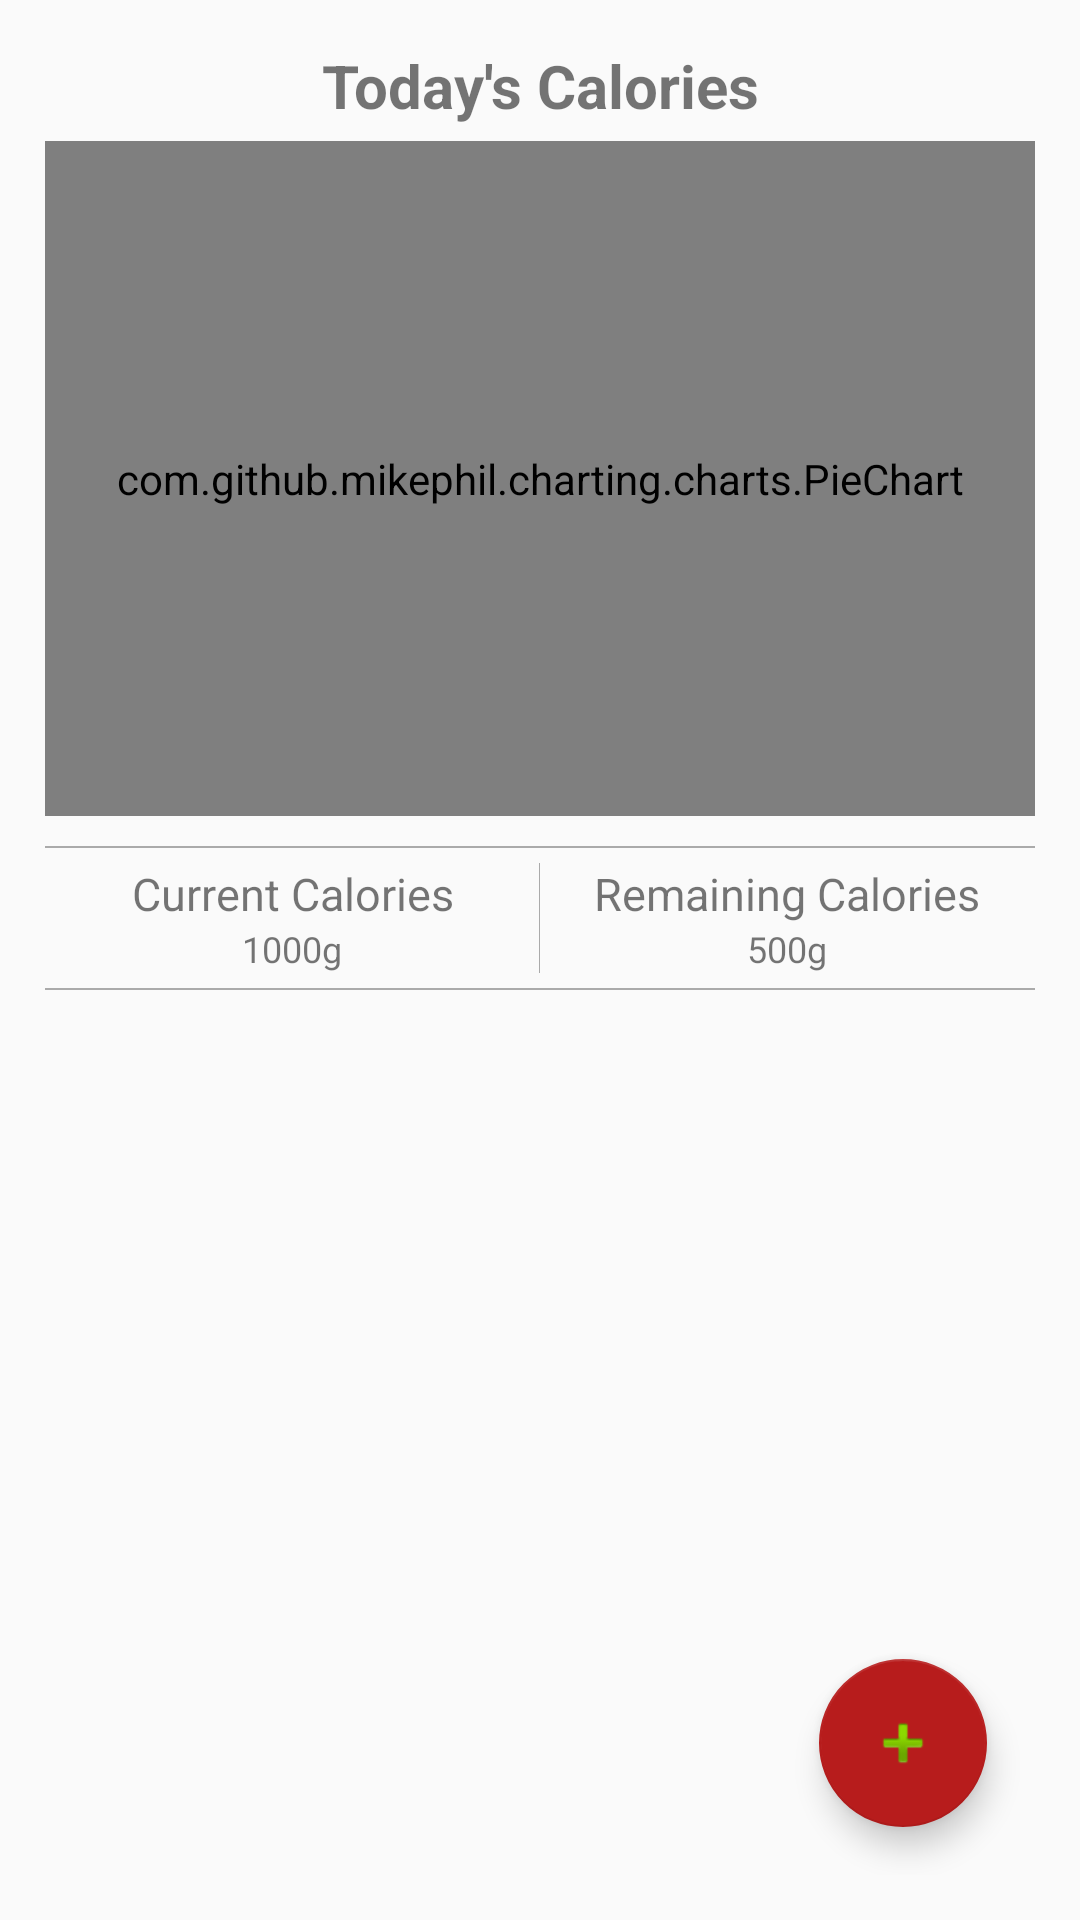

Icon bounding boxes for this 1080 x 1920 phone screenshot, format (x1, y1, x2, y2):
add: (819, 1659, 987, 1827)
